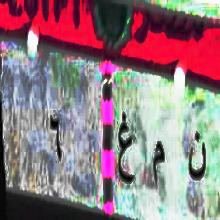6: (48, 112, 64, 165)
ghayn: (116, 100, 135, 194)
meem: (150, 132, 167, 197)
noon: (184, 123, 208, 188)
